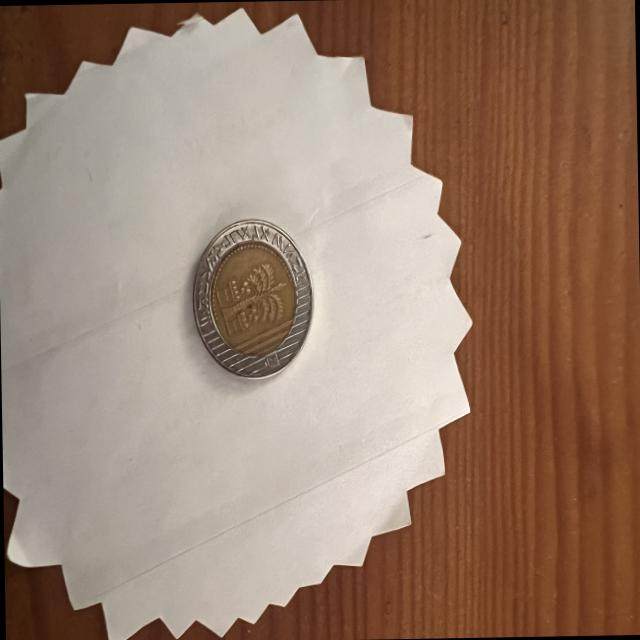10-shekel: (186, 211, 318, 386)
